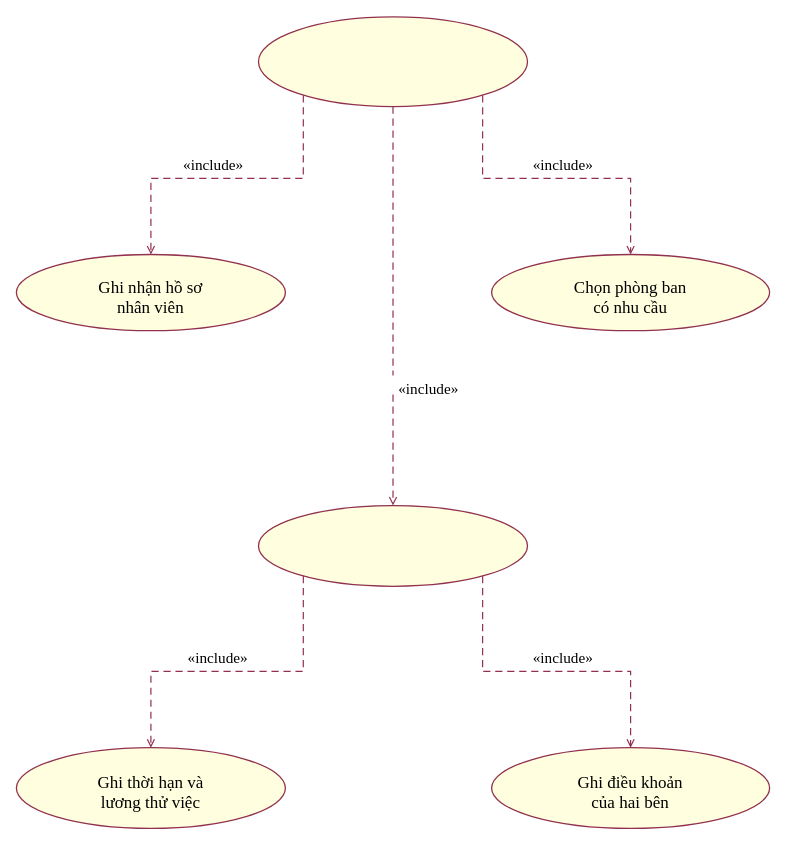
Image size: 786x845. Some labels were removed from this diagram. Here are the shapes that lost their labels. From the top down, the box of each, then its label:
(257, 16, 528, 107): Tiếp nhận nhân viên vào thử việc
(257, 504, 528, 586): Lập quyết định tuyển dụng
